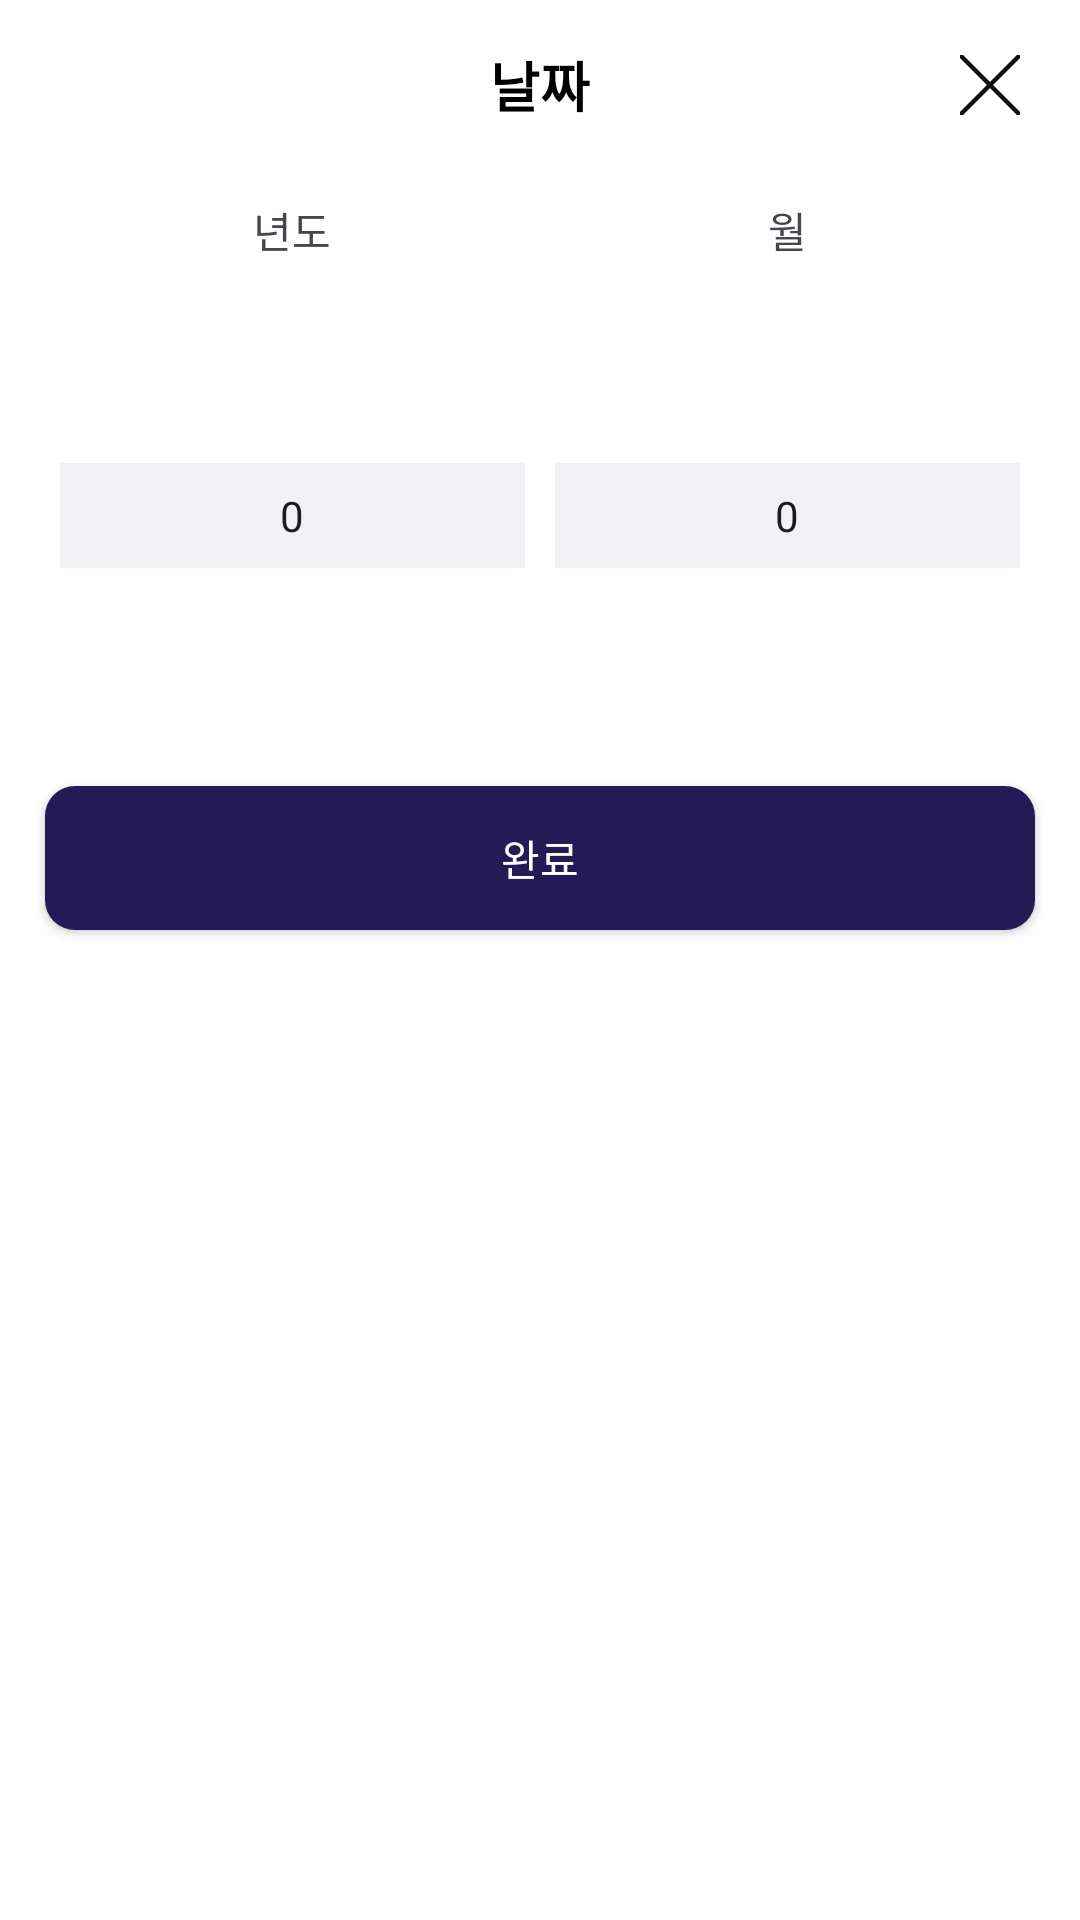

Named icons in this screenshot (1080px x 1920px) and their bounding boxes, bbox=[x1, y1, x2, y2]:
close: bbox=[960, 55, 1020, 115]
